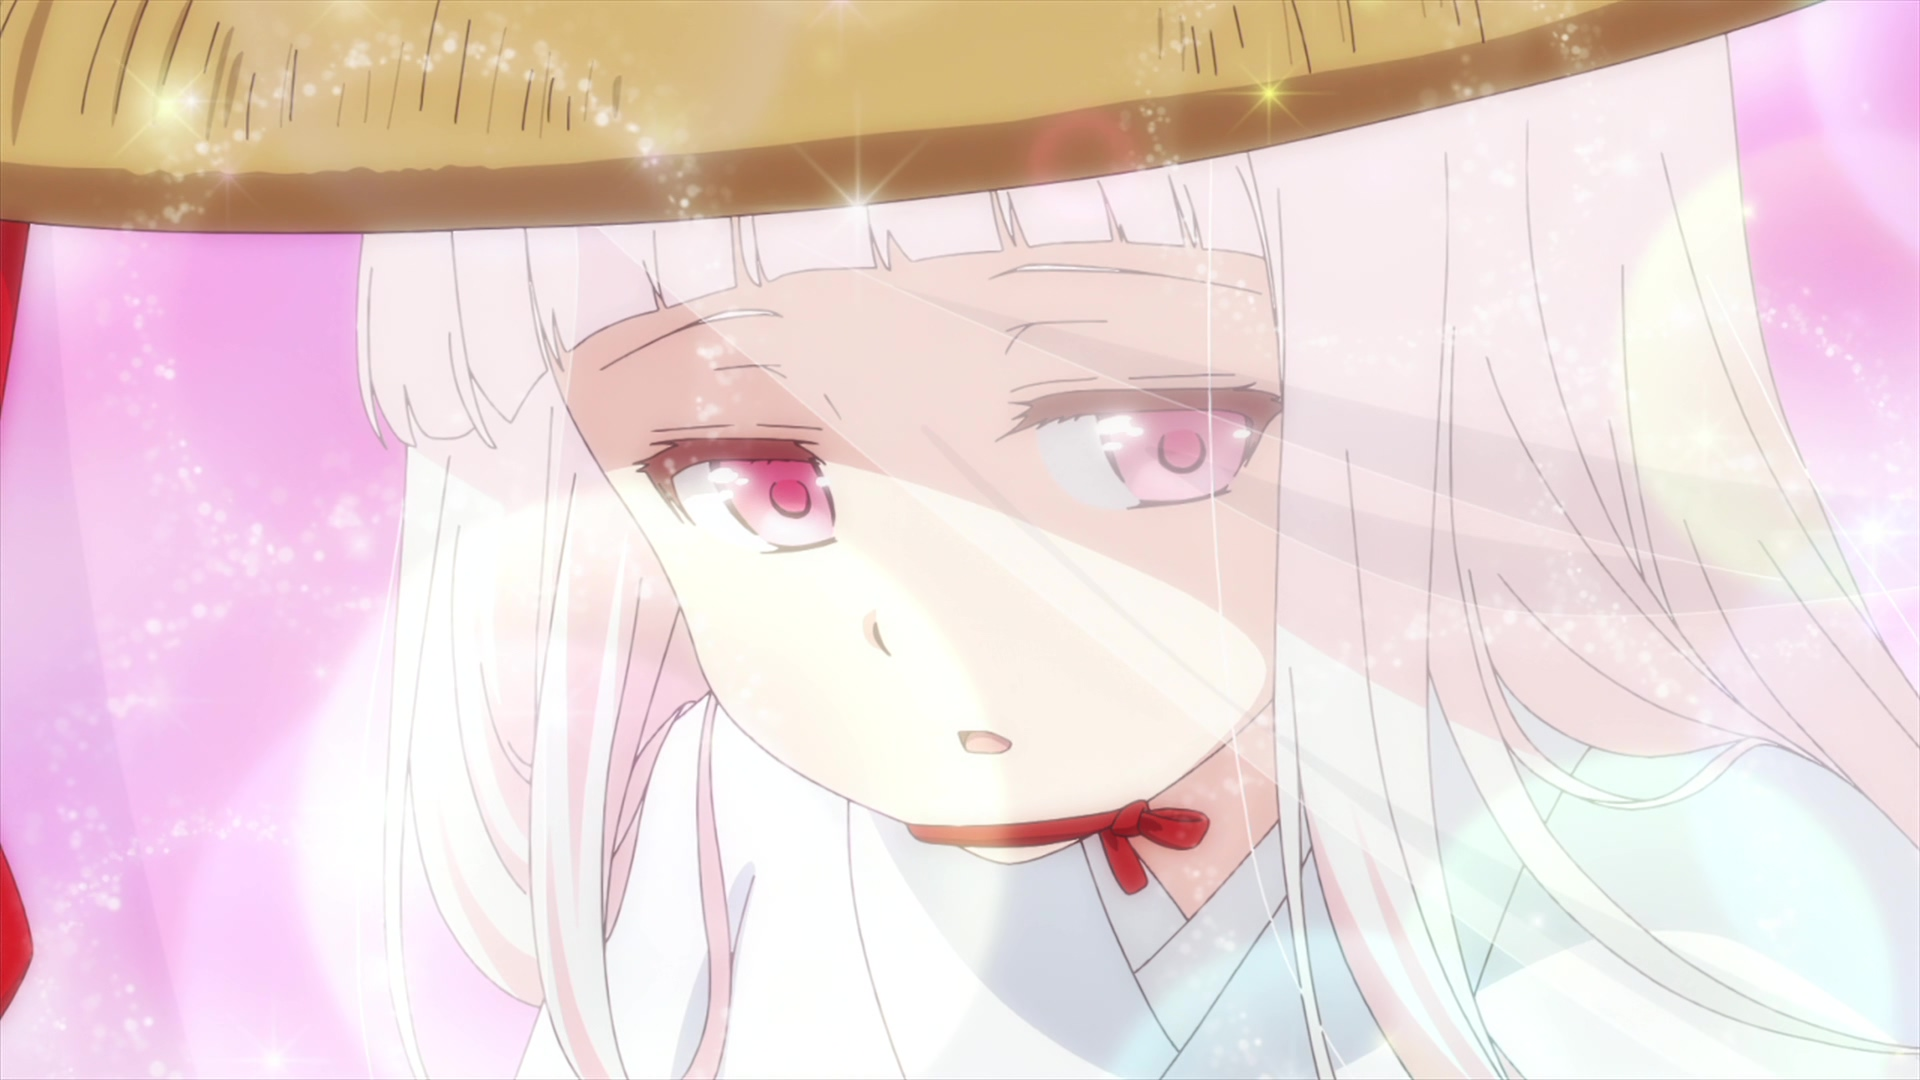其他: (1, 1, 1920, 1080)
